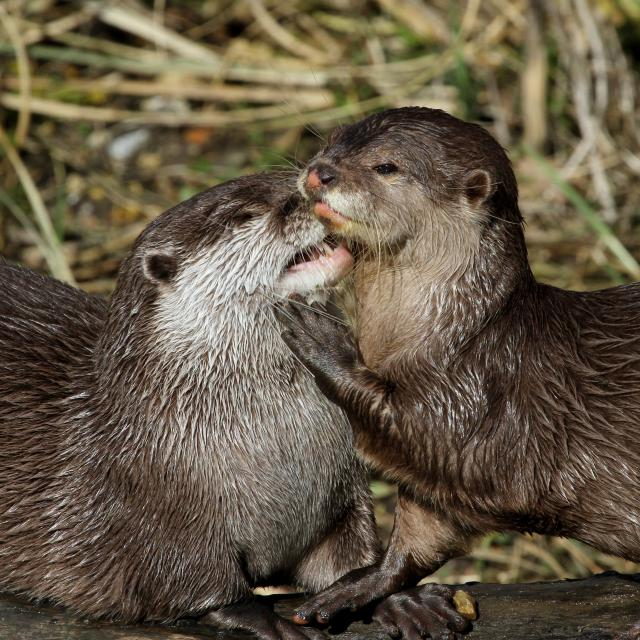otter: (1, 169, 387, 602), (282, 112, 640, 548)
